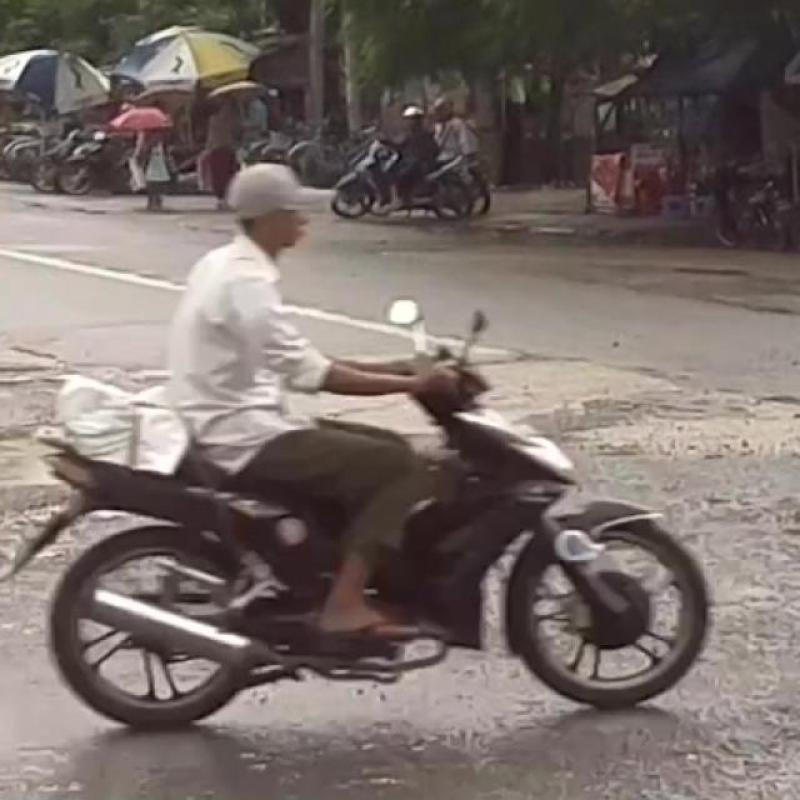nohelmet: (204, 146, 367, 284)
